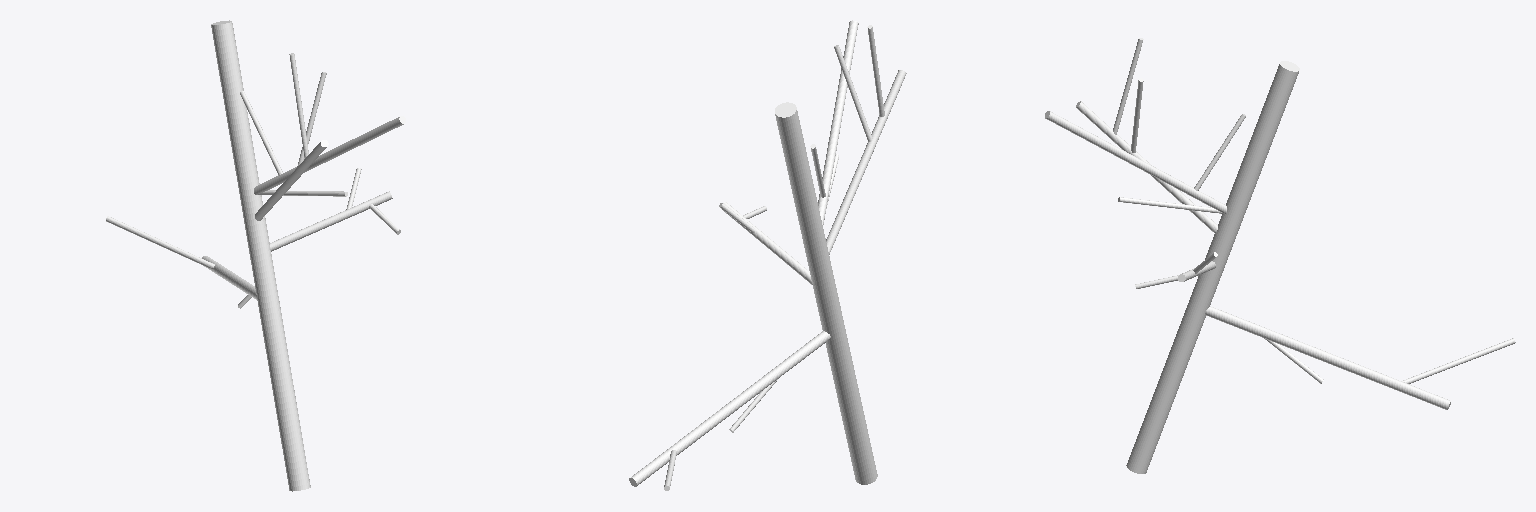
URDF robot description (tree_78.urdf):
<?xml version='1.0' encoding='UTF-8'?>
<robot name="tree_78.urdf">
  <link name="branch_0">
    <inertial>
      <origin xyz="0.0 0.0 0.0" rpy="0.0 -0.0 0.0"/>
      <mass value="1.0"/>
      <inertia ixx="1.0" ixy="0.0" ixz="0.0" iyy="1.0" iyz="0.0" izz="1.0"/>
    </inertial>
    <visual name="branch_0_visual">
      <geometry>
        <cylinder radius="0.1680777285207137" length="7.398544052030297"/>
      </geometry>
      <material name="branch_material"/>
      <origin xyz="-0.004736500012119368 1.2084616367194148 3.496313996282841" rpy="2.168404344971009e-19 0.3327866288034679 1.5747157526287812"/>
    </visual>
    <collision name="branch_0_collision">
      <geometry>
        <cylinder radius="0.1680777285207137" length="7.398544052030297"/>
      </geometry>
      <origin xyz="-0.004736500012119368 1.2084616367194148 3.496313996282841" rpy="2.168404344971009e-19 0.3327866288034679 1.5747157526287812"/>
    </collision>
  </link>
  <link name="branch_1">
    <inertial>
      <origin xyz="0.0 0.0 0.0" rpy="0.0 -0.0 0.0"/>
      <mass value="1.0"/>
      <inertia ixx="1.0" ixy="0.0" ixz="0.0" iyy="1.0" iyz="0.0" izz="1.0"/>
    </inertial>
    <visual name="branch_1_visual">
      <geometry>
        <cylinder radius="0.06928219268133383" length="3.8158801926738626"/>
      </geometry>
      <material name="branch_material"/>
      <origin xyz="0.0 0.0 0.0" rpy="0.0 -0.0 0.0"/>
    </visual>
    <collision name="branch_1_collision">
      <geometry>
        <cylinder radius="0.06928219268133383" length="3.8158801926738626"/>
      </geometry>
      <origin xyz="0.0 0.0 0.0" rpy="0.0 -0.0 0.0"/>
    </collision>
  </link>
  <link name="branch_2">
    <inertial>
      <origin xyz="0.0 0.0 0.0" rpy="0.0 -0.0 0.0"/>
      <mass value="1.0"/>
      <inertia ixx="1.0" ixy="0.0" ixz="0.0" iyy="1.0" iyz="0.0" izz="1.0"/>
    </inertial>
    <visual name="branch_2_visual">
      <geometry>
        <cylinder radius="0.04" length="1.4874670213467636"/>
      </geometry>
      <material name="branch_material"/>
      <origin xyz="0.0 0.0 0.0" rpy="0.0 -0.0 0.0"/>
    </visual>
    <collision name="branch_2_collision">
      <geometry>
        <cylinder radius="0.04" length="1.4874670213467636"/>
      </geometry>
      <origin xyz="0.0 0.0 0.0" rpy="0.0 -0.0 0.0"/>
    </collision>
  </link>
  <link name="branch_3">
    <inertial>
      <origin xyz="0.0 0.0 0.0" rpy="0.0 -0.0 0.0"/>
      <mass value="1.0"/>
      <inertia ixx="1.0" ixy="0.0" ixz="0.0" iyy="1.0" iyz="0.0" izz="1.0"/>
    </inertial>
    <visual name="branch_3_visual">
      <geometry>
        <cylinder radius="0.04" length="1.9399923227181155"/>
      </geometry>
      <material name="branch_material"/>
      <origin xyz="0.0 0.0 0.0" rpy="0.0 -0.0 0.0"/>
    </visual>
    <collision name="branch_3_collision">
      <geometry>
        <cylinder radius="0.04" length="1.9399923227181155"/>
      </geometry>
      <origin xyz="0.0 0.0 0.0" rpy="0.0 -0.0 0.0"/>
    </collision>
  </link>
  <link name="branch_4">
    <inertial>
      <origin xyz="0.0 0.0 0.0" rpy="0.0 -0.0 0.0"/>
      <mass value="1.0"/>
      <inertia ixx="1.0" ixy="0.0" ixz="0.0" iyy="1.0" iyz="0.0" izz="1.0"/>
    </inertial>
    <visual name="branch_4_visual">
      <geometry>
        <cylinder radius="0.06556317300512783" length="3.238134460056764"/>
      </geometry>
      <material name="branch_material"/>
      <origin xyz="0.0 0.0 0.0" rpy="0.0 -0.0 0.0"/>
    </visual>
    <collision name="branch_4_collision">
      <geometry>
        <cylinder radius="0.06556317300512783" length="3.238134460056764"/>
      </geometry>
      <origin xyz="0.0 0.0 0.0" rpy="0.0 -0.0 0.0"/>
    </collision>
  </link>
  <link name="branch_5">
    <inertial>
      <origin xyz="0.0 0.0 0.0" rpy="0.0 -0.0 0.0"/>
      <mass value="1.0"/>
      <inertia ixx="1.0" ixy="0.0" ixz="0.0" iyy="1.0" iyz="0.0" izz="1.0"/>
    </inertial>
    <visual name="branch_5_visual">
      <geometry>
        <cylinder radius="0.04097424098085904" length="1.6243404627353097"/>
      </geometry>
      <material name="branch_material"/>
      <origin xyz="0.0 0.0 0.0" rpy="0.0 -0.0 0.0"/>
    </visual>
    <collision name="branch_5_collision">
      <geometry>
        <cylinder radius="0.04097424098085904" length="1.6243404627353097"/>
      </geometry>
      <origin xyz="0.0 0.0 0.0" rpy="0.0 -0.0 0.0"/>
    </collision>
  </link>
  <link name="branch_6">
    <inertial>
      <origin xyz="0.0 0.0 0.0" rpy="0.0 -0.0 0.0"/>
      <mass value="1.0"/>
      <inertia ixx="1.0" ixy="0.0" ixz="0.0" iyy="1.0" iyz="0.0" izz="1.0"/>
    </inertial>
    <visual name="branch_6_visual">
      <geometry>
        <cylinder radius="0.04" length="1.7366602532649058"/>
      </geometry>
      <material name="branch_material"/>
      <origin xyz="0.0 0.0 0.0" rpy="0.0 -0.0 0.0"/>
    </visual>
    <collision name="branch_6_collision">
      <geometry>
        <cylinder radius="0.04" length="1.7366602532649058"/>
      </geometry>
      <origin xyz="0.0 0.0 0.0" rpy="0.0 -0.0 0.0"/>
    </collision>
  </link>
  <link name="branch_7">
    <inertial>
      <origin xyz="0.0 0.0 0.0" rpy="0.0 -0.0 0.0"/>
      <mass value="1.0"/>
      <inertia ixx="1.0" ixy="0.0" ixz="0.0" iyy="1.0" iyz="0.0" izz="1.0"/>
    </inertial>
    <visual name="branch_7_visual">
      <geometry>
        <cylinder radius="0.0810398514298798" length="4.288626553828004"/>
      </geometry>
      <material name="branch_material"/>
      <origin xyz="0.0 0.0 0.0" rpy="0.0 -0.0 0.0"/>
    </visual>
    <collision name="branch_7_collision">
      <geometry>
        <cylinder radius="0.0810398514298798" length="4.288626553828004"/>
      </geometry>
      <origin xyz="0.0 0.0 0.0" rpy="0.0 -0.0 0.0"/>
    </collision>
  </link>
  <link name="branch_8">
    <inertial>
      <origin xyz="0.0 0.0 0.0" rpy="0.0 -0.0 0.0"/>
      <mass value="1.0"/>
      <inertia ixx="1.0" ixy="0.0" ixz="0.0" iyy="1.0" iyz="0.0" izz="1.0"/>
    </inertial>
    <visual name="branch_8_visual">
      <geometry>
        <cylinder radius="0.04" length="1.309226957065124"/>
      </geometry>
      <material name="branch_material"/>
      <origin xyz="0.0 0.0 0.0" rpy="0.0 -0.0 0.0"/>
    </visual>
    <collision name="branch_8_collision">
      <geometry>
        <cylinder radius="0.04" length="1.309226957065124"/>
      </geometry>
      <origin xyz="0.0 0.0 0.0" rpy="0.0 -0.0 0.0"/>
    </collision>
  </link>
  <link name="branch_9">
    <inertial>
      <origin xyz="0.0 0.0 0.0" rpy="0.0 -0.0 0.0"/>
      <mass value="1.0"/>
      <inertia ixx="1.0" ixy="0.0" ixz="0.0" iyy="1.0" iyz="0.0" izz="1.0"/>
    </inertial>
    <visual name="branch_9_visual">
      <geometry>
        <cylinder radius="0.04495244244796768" length="2.0812382860577645"/>
      </geometry>
      <material name="branch_material"/>
      <origin xyz="0.0 0.0 0.0" rpy="0.0 -0.0 0.0"/>
    </visual>
    <collision name="branch_9_collision">
      <geometry>
        <cylinder radius="0.04495244244796768" length="2.0812382860577645"/>
      </geometry>
      <origin xyz="0.0 0.0 0.0" rpy="0.0 -0.0 0.0"/>
    </collision>
  </link>
  <link name="branch_10">
    <inertial>
      <origin xyz="0.0 0.0 0.0" rpy="0.0 -0.0 0.0"/>
      <mass value="1.0"/>
      <inertia ixx="1.0" ixy="0.0" ixz="0.0" iyy="1.0" iyz="0.0" izz="1.0"/>
    </inertial>
    <visual name="branch_10_visual">
      <geometry>
        <cylinder radius="0.06511261062234094" length="2.2206567333975173"/>
      </geometry>
      <material name="branch_material"/>
      <origin xyz="0.0 0.0 0.0" rpy="0.0 -0.0 0.0"/>
    </visual>
    <collision name="branch_10_collision">
      <geometry>
        <cylinder radius="0.06511261062234094" length="2.2206567333975173"/>
      </geometry>
      <origin xyz="0.0 0.0 0.0" rpy="0.0 -0.0 0.0"/>
    </collision>
  </link>
  <link name="branch_11">
    <inertial>
      <origin xyz="0.0 0.0 0.0" rpy="0.0 -0.0 0.0"/>
      <mass value="1.0"/>
      <inertia ixx="1.0" ixy="0.0" ixz="0.0" iyy="1.0" iyz="0.0" izz="1.0"/>
    </inertial>
    <visual name="branch_11_visual">
      <geometry>
        <cylinder radius="0.040572443205965404" length="0.8293273803533234"/>
      </geometry>
      <material name="branch_material"/>
      <origin xyz="0.0 0.0 0.0" rpy="0.0 -0.0 0.0"/>
    </visual>
    <collision name="branch_11_collision">
      <geometry>
        <cylinder radius="0.040572443205965404" length="0.8293273803533234"/>
      </geometry>
      <origin xyz="0.0 0.0 0.0" rpy="0.0 -0.0 0.0"/>
    </collision>
  </link>
  <link name="branch_12">
    <inertial>
      <origin xyz="0.0 0.0 0.0" rpy="0.0 -0.0 0.0"/>
      <mass value="1.0"/>
      <inertia ixx="1.0" ixy="0.0" ixz="0.0" iyy="1.0" iyz="0.0" izz="1.0"/>
    </inertial>
    <visual name="branch_12_visual">
      <geometry>
        <cylinder radius="0.04" length="0.760633291506302"/>
      </geometry>
      <material name="branch_material"/>
      <origin xyz="0.0 0.0 0.0" rpy="0.0 -0.0 0.0"/>
    </visual>
    <collision name="branch_12_collision">
      <geometry>
        <cylinder radius="0.04" length="0.760633291506302"/>
      </geometry>
      <origin xyz="0.0 0.0 0.0" rpy="0.0 -0.0 0.0"/>
    </collision>
  </link>
  <joint name="joint_0_1" type="fixed">
    <parent link="branch_0"/>
    <child link="branch_1"/>
    <axis xyz="1. 0. 0."/>
    <origin xyz="0.5094332296749281 0.06223939676018613 5.530556817260876" rpy="-0.15642210291850103 0.9441447226037278 -1.4252897862653187"/>
  </joint>
  <joint name="joint_0_4" type="fixed">
    <parent link="branch_0"/>
    <child link="branch_4"/>
    <axis xyz="1. 0. 0."/>
    <origin xyz="-0.04895811724719324 0.23781391204006475 5.160936399111284" rpy="0.015306638824981025 0.7937212442222292 -1.5870212404438742"/>
  </joint>
  <joint name="joint_0_7" type="fixed">
    <parent link="branch_0"/>
    <child link="branch_7"/>
    <axis xyz="1. 0. 0."/>
    <origin xyz="0.5755694890791503 2.9518177405561112 2.226255124881158" rpy="-2.8265351546407853 1.2777084702510113 -1.5275130336568314"/>
  </joint>
  <joint name="joint_0_10" type="fixed">
    <parent link="branch_0"/>
    <child link="branch_10"/>
    <axis xyz="1. 0. 0."/>
    <origin xyz="1.0154616872753408 0.9701903236574502 3.909191434119648" rpy="-0.7684941672598559 1.1122495119151603 -1.0714321938304823"/>
  </joint>
  <joint name="joint_1_2" type="fixed">
    <parent link="branch_0"/>
    <child link="branch_2"/>
    <axis xyz="1. 0. 0."/>
    <origin xyz="0.07355448521722846 1.3019833235805518 5.508949410881993" rpy="-0.000493813853899913 0.6015741902363196 1.9086121225008195"/>
  </joint>
  <joint name="joint_1_3" type="fixed">
    <parent link="branch_0"/>
    <child link="branch_3"/>
    <axis xyz="1. 0. 0."/>
    <origin xyz="0.34131771858323834 0.5989303573893406 4.731699683227649" rpy="0.1751399345858999 1.2909809885618915 -1.0302865201780729"/>
  </joint>
  <joint name="joint_4_5" type="fixed">
    <parent link="branch_0"/>
    <child link="branch_5"/>
    <axis xyz="1. 0. 0."/>
    <origin xyz="0.20683049931376785 0.008902345841192117 6.2135562282776595" rpy="0.2975426029745308 0.17656367700522294 1.2859962863651522"/>
  </joint>
  <joint name="joint_4_6" type="fixed">
    <parent link="branch_0"/>
    <child link="branch_6"/>
    <axis xyz="1. 0. 0."/>
    <origin xyz="-0.0873805571389396 -0.1420251038338626 6.58805319070155" rpy="-0.023610624659431326 0.2509240764572645 1.5497347415070177"/>
  </joint>
  <joint name="joint_7_8" type="fixed">
    <parent link="branch_0"/>
    <child link="branch_8"/>
    <axis xyz="1. 0. 0."/>
    <origin xyz="0.4462468405073396 2.422630803038764 2.167405294347192" rpy="-2.9419850259735556 0.9586562465876446 -1.6587889683847745"/>
  </joint>
  <joint name="joint_7_9" type="fixed">
    <parent link="branch_0"/>
    <child link="branch_9"/>
    <axis xyz="1. 0. 0."/>
    <origin xyz="0.4517438858878606 5.034166882517576 2.04947104381608" rpy="1.3803999038453654 -0.5214460490467008 -2.575013603534738"/>
  </joint>
  <joint name="joint_10_11" type="fixed">
    <parent link="branch_0"/>
    <child link="branch_11"/>
    <axis xyz="1. 0. 0."/>
    <origin xyz="1.7280996335505943 0.39114430351399837 4.063768298867657" rpy="-1.7868406792678146 0.3824094035260656 3.129298367944303"/>
  </joint>
  <joint name="joint_10_12" type="fixed">
    <parent link="branch_0"/>
    <child link="branch_12"/>
    <axis xyz="1. 0. 0."/>
    <origin xyz="1.5700555378744714 1.0654104669292646 4.292103982318659" rpy="0.8036742077594743 -0.12211551176258448 2.4174735958024796"/>
  </joint>
  <material name="branch_material">
    <color rgba="1. 1. 1. 1."/>
  </material>
</robot>

--- What the picture shows (computed from the rendered views, not written in the file) ---
3 views of the same robot in one strip: view 1: azimuth 30°, elevation 25°; view 2: azimuth 150°, elevation 25°; view 3: azimuth 270°, elevation 25° (orthographic).
Robot: tree_78.urdf — 13 links, 12 joints (12 fixed); root link branch_0; default pose: every joint at zero.
Links seen in each view (by area): view 1: branch_0, branch_1, branch_10, branch_4, branch_9, branch_7, branch_6; view 2: branch_0, branch_7, branch_1, branch_4, branch_10, branch_5; view 3: branch_0, branch_7, branch_1, branch_4, branch_9.
Link boxes in pixels (left/top/right/bottom): branch_0: left=211, top=20, right=310, bottom=491; branch_1: left=254, top=116, right=405, bottom=194; branch_10: left=270, top=191, right=392, bottom=251; branch_4: left=255, top=140, right=328, bottom=220; branch_9: left=106, top=216, right=214, bottom=269; branch_7: left=202, top=256, right=256, bottom=299; branch_6: left=289, top=53, right=308, bottom=157; branch_0: left=775, top=102, right=877, bottom=484; branch_7: left=629, top=331, right=830, bottom=486; branch_1: left=818, top=20, right=858, bottom=224; branch_4: left=826, top=70, right=906, bottom=254; branch_10: left=722, top=202, right=812, bottom=284; branch_5: left=834, top=45, right=872, bottom=141; branch_0: left=1126, top=61, right=1299, bottom=473; branch_7: left=1205, top=306, right=1450, bottom=409; branch_1: left=1045, top=111, right=1226, bottom=213; branch_4: left=1076, top=101, right=1217, bottom=233; branch_9: left=1402, top=338, right=1515, bottom=383.
Size in the robot's own frame: 2.24 by 7.42 by 7.49 metres.
Geometry: primitives only (box / cylinder / sphere), no mesh files.